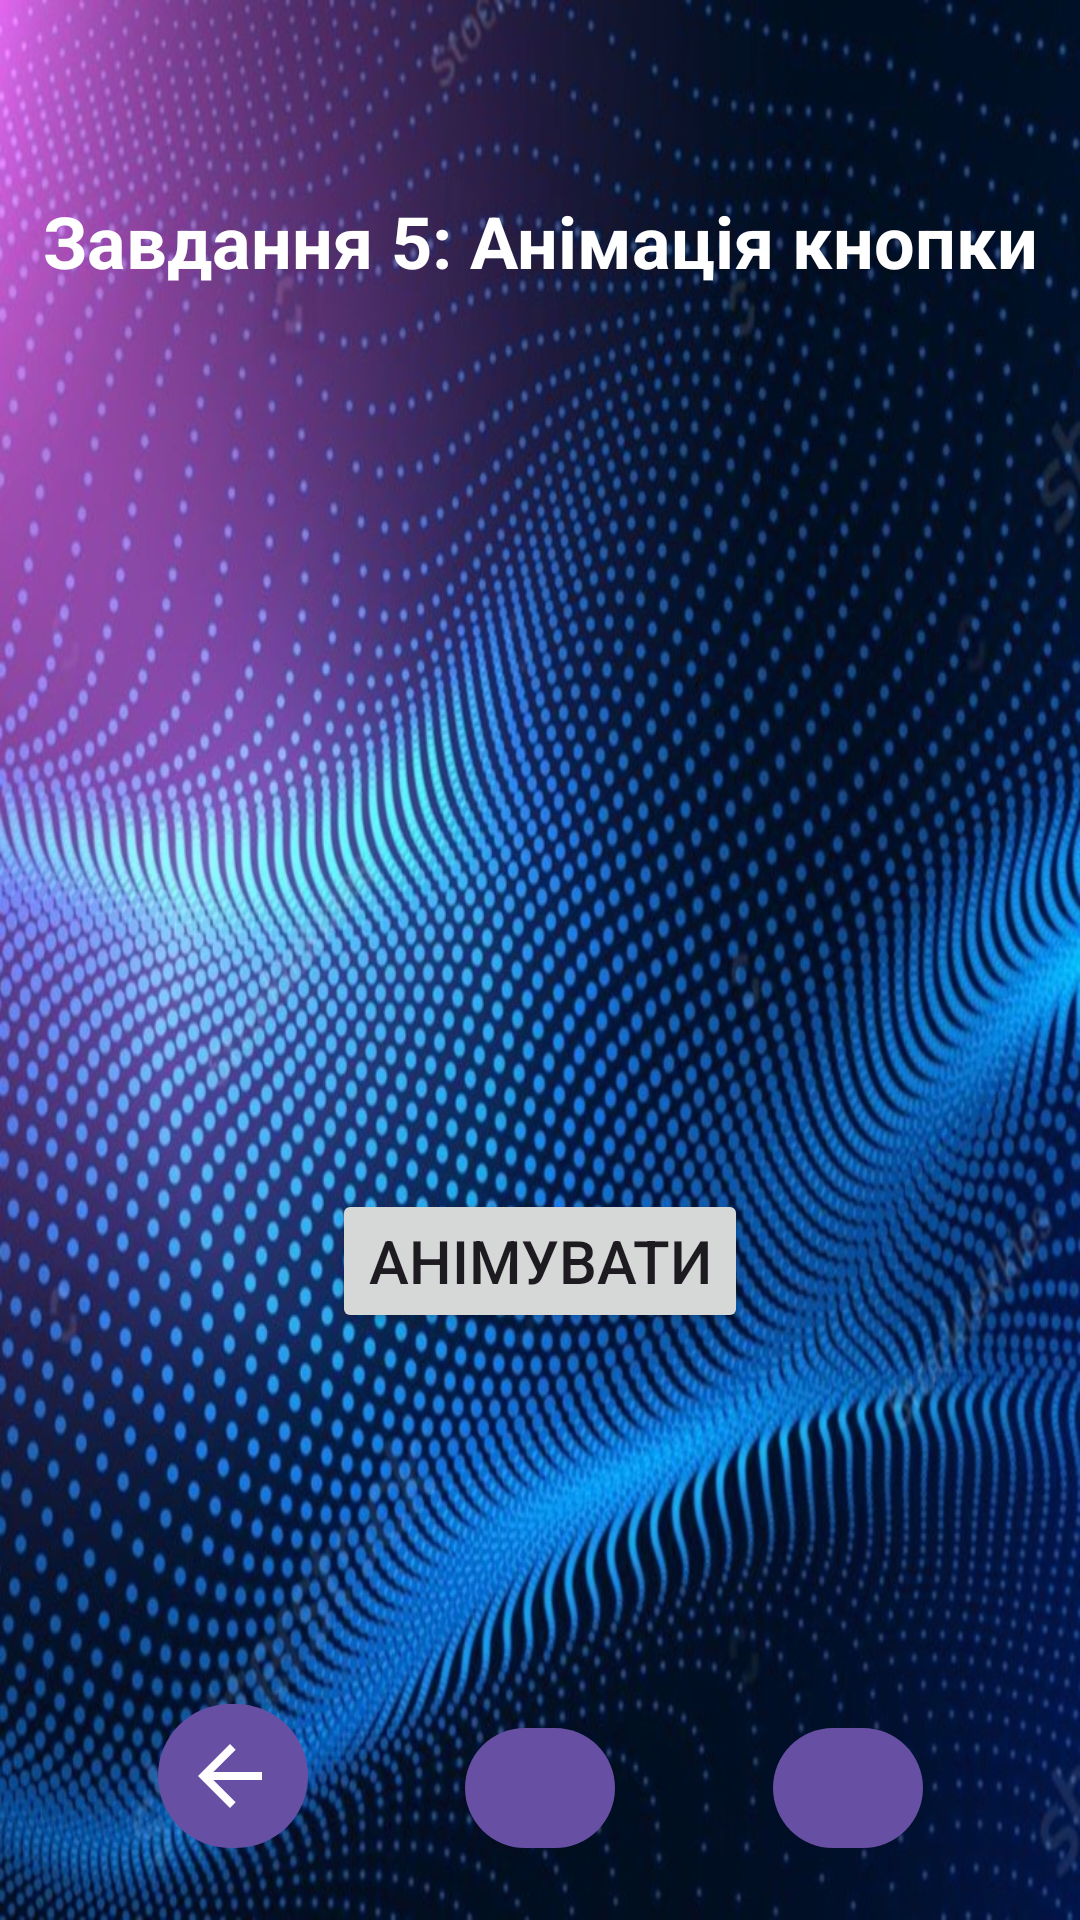

Screen size 1080x1920. Icon name, then its center in pixels as point (x, y):
Повернутися назад: point (233, 1776)
